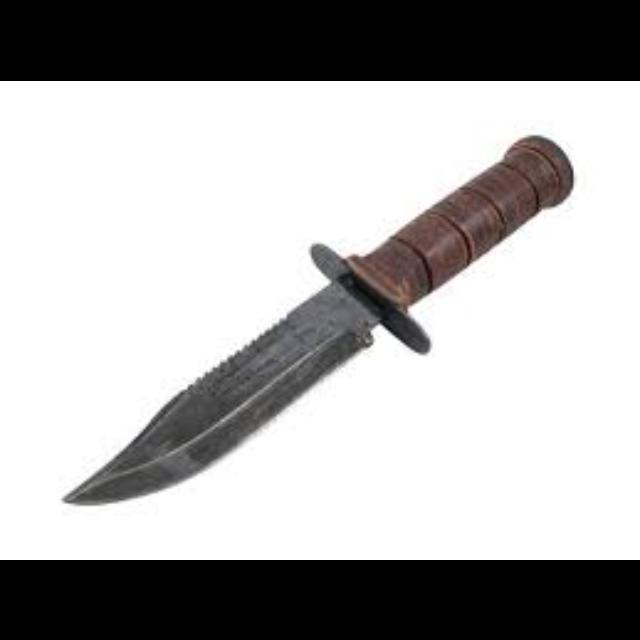Knife: (60, 132, 572, 504)
